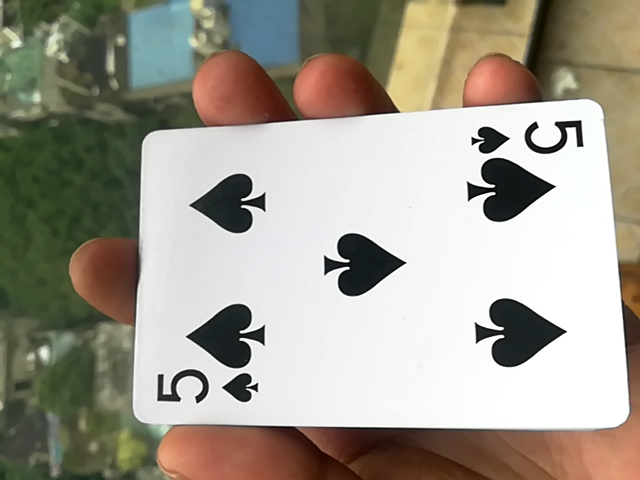ht 5: (116, 104, 631, 448)
